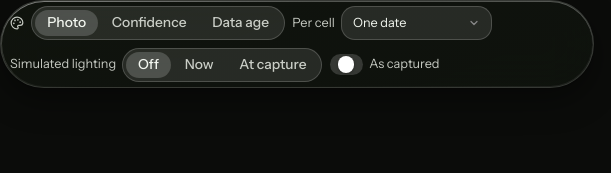
Scenario: the switch and the chip › switches in the Splat view control under any renderer, and the chip says it with the way back
Click the switch named "As captured" at [346, 65], box [330, 54, 363, 75]
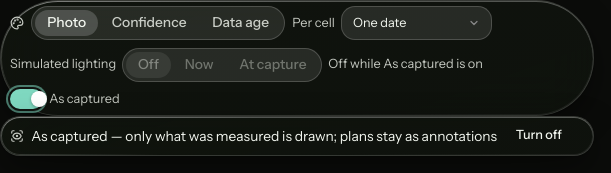
Expected: the message with test id "as-captured-chip" shows "As captured — only what was measured is drawn; plans stay as annotations", [31, 128, 497, 144]
Click the button "Turn off" at [539, 136], box [504, 122, 573, 150]
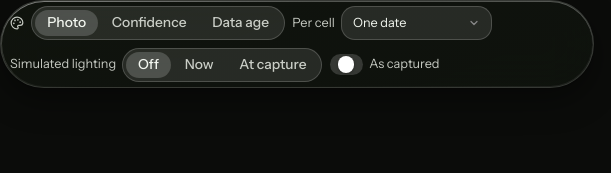
Expected: the message with test id "as-captured-chip" is gone
